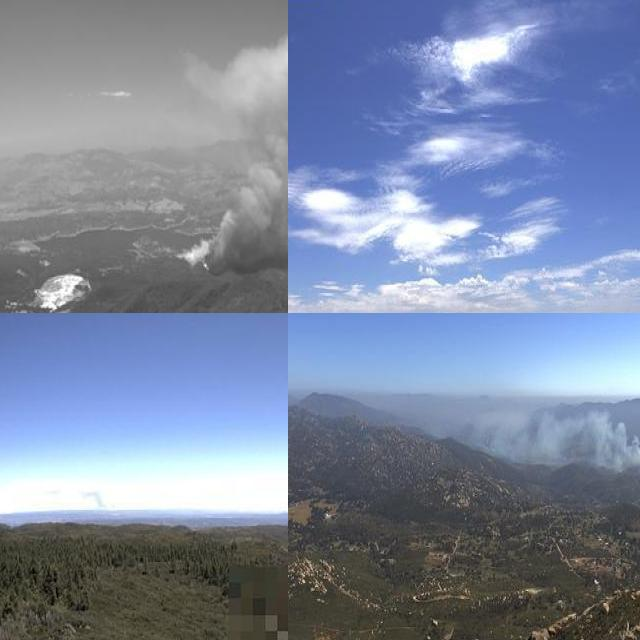smoke: (172, 16, 288, 278), (451, 401, 640, 475), (76, 486, 109, 522)
